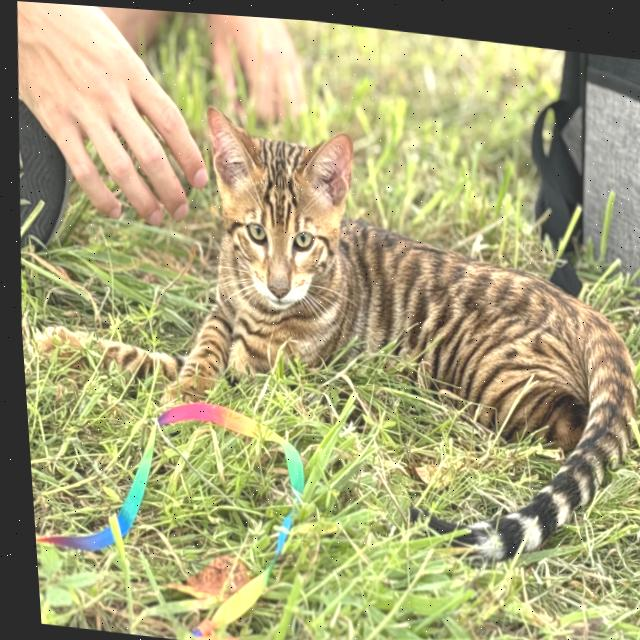Toyger: (6, 80, 640, 576)
